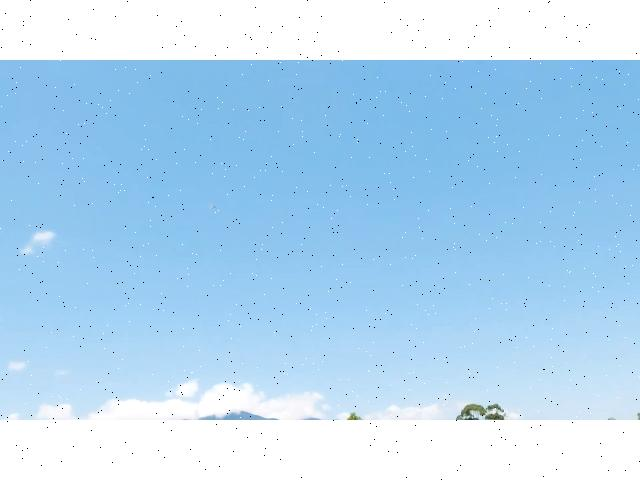Anti-Drone: (204, 199, 224, 215)
